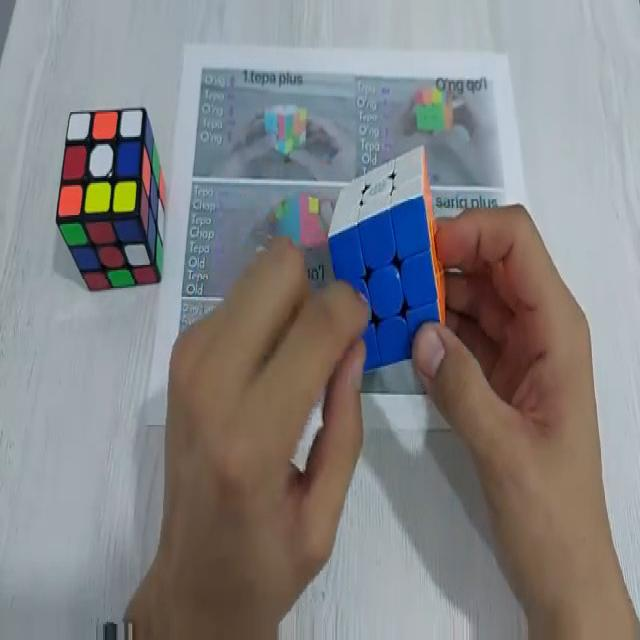Rub: (330, 144, 451, 370), (56, 107, 166, 289)
